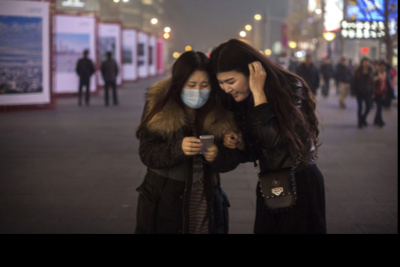with_mask: (179, 76, 211, 108)
without_mask: (215, 75, 249, 102)
